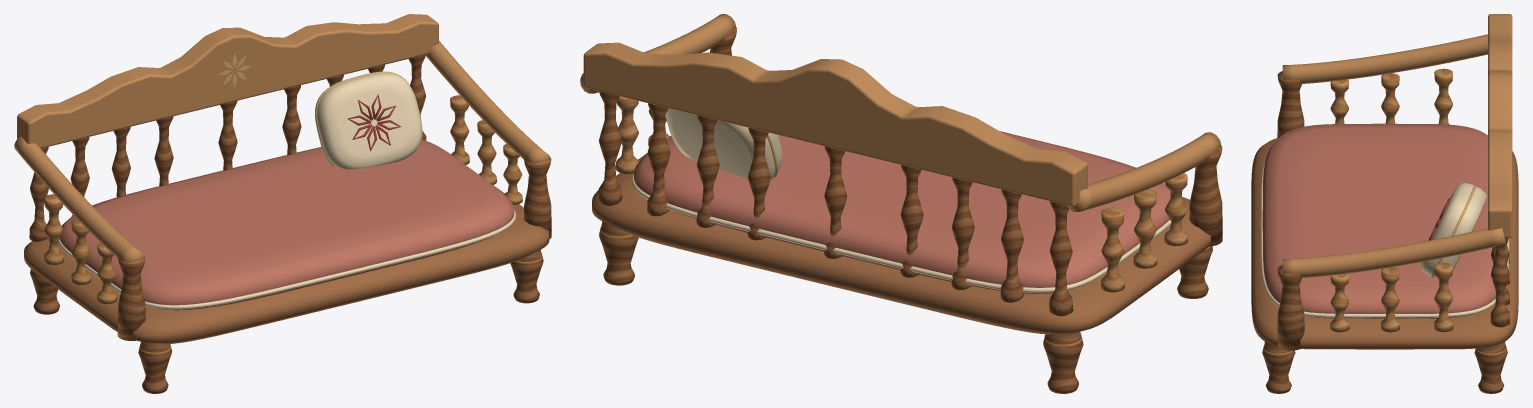
File: bed-oak.glb
The picture shows the model from 3 angles, left to right: view 1: azimuth 30°, elevation 25°; view 2: azimuth 150°, elevation 25°; view 3: azimuth 270°, elevation 25°; orthographic projection. The views are drawn at different scales.
Visible parts, largest first — view 1: Window seat - oak; view 2: Window seat - oak; view 3: Window seat - oak.
Part boxes in pixels (x1,y1,x2,y2): Window seat - oak: [14, 14, 551, 393]; Window seat - oak: [580, 14, 1222, 393]; Window seat - oak: [1251, 14, 1518, 393].
Size of the model in its own units: 1.08 by 0.548 by 0.592.
6 materials, 4 textured.
